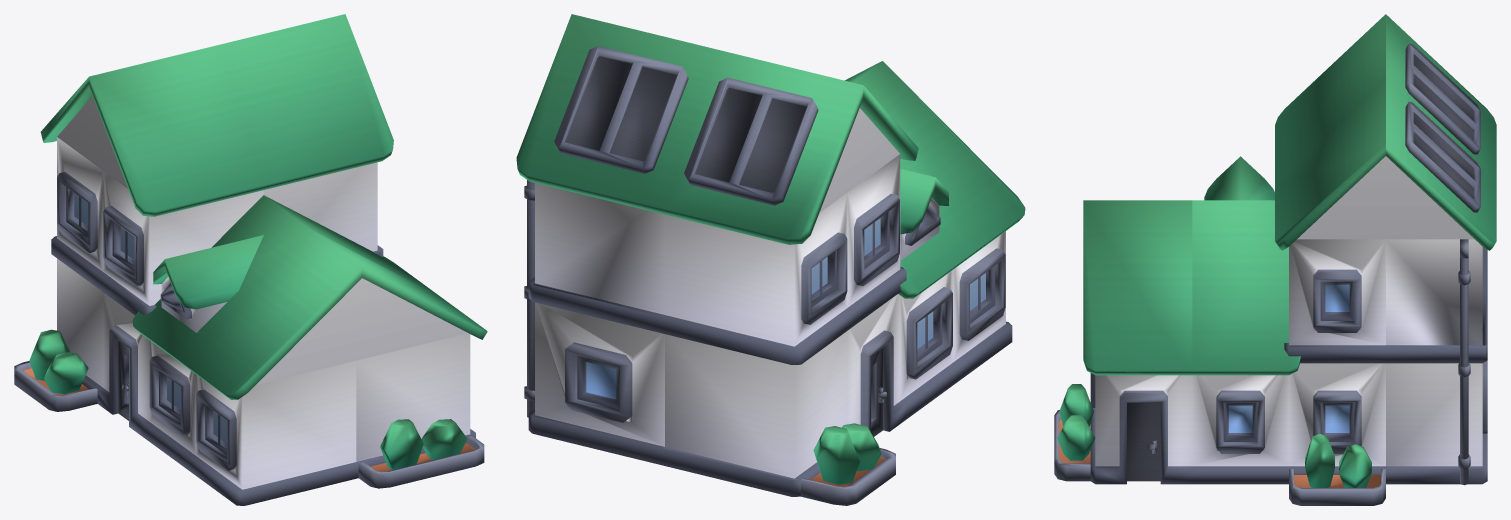
The model's file is n1_building-type-b_lev1.glb.
3 renders of one model, left to right at view 1: azimuth 30°, elevation 25°; view 2: azimuth 150°, elevation 25°; view 3: azimuth 270°, elevation 25°, orthographic. The views are drawn at different scales.
Parts seen in each view (by area): view 1: n1_building-type-b_lev1; view 2: n1_building-type-b_lev1; view 3: n1_building-type-b_lev1.
Boxes of the visible parts, x1,y1,x2,y2 form: n1_building-type-b_lev1: [14, 14, 487, 505]; n1_building-type-b_lev1: [516, 14, 1025, 505]; n1_building-type-b_lev1: [1054, 14, 1496, 505].
Bounding box in the file's own units: 8.83 × 8.56 × 9.98.
1 material, 1 textured.
